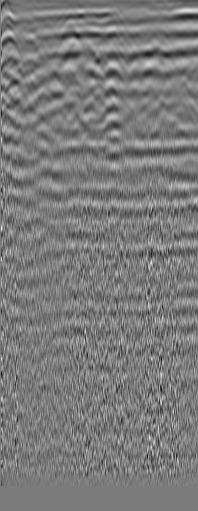오수: (1, 30, 21, 50)
우수: (144, 36, 164, 56)
